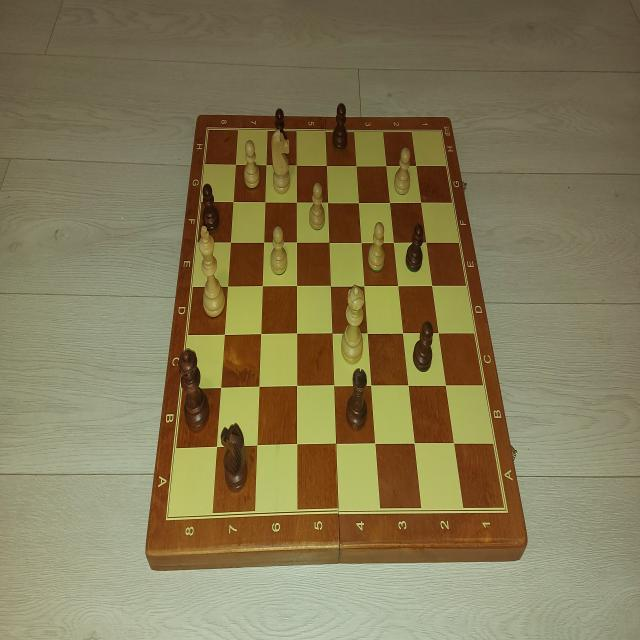chess-table-corners: (491, 487, 513, 522), (160, 497, 180, 530), (201, 117, 218, 145), (432, 122, 446, 148)
